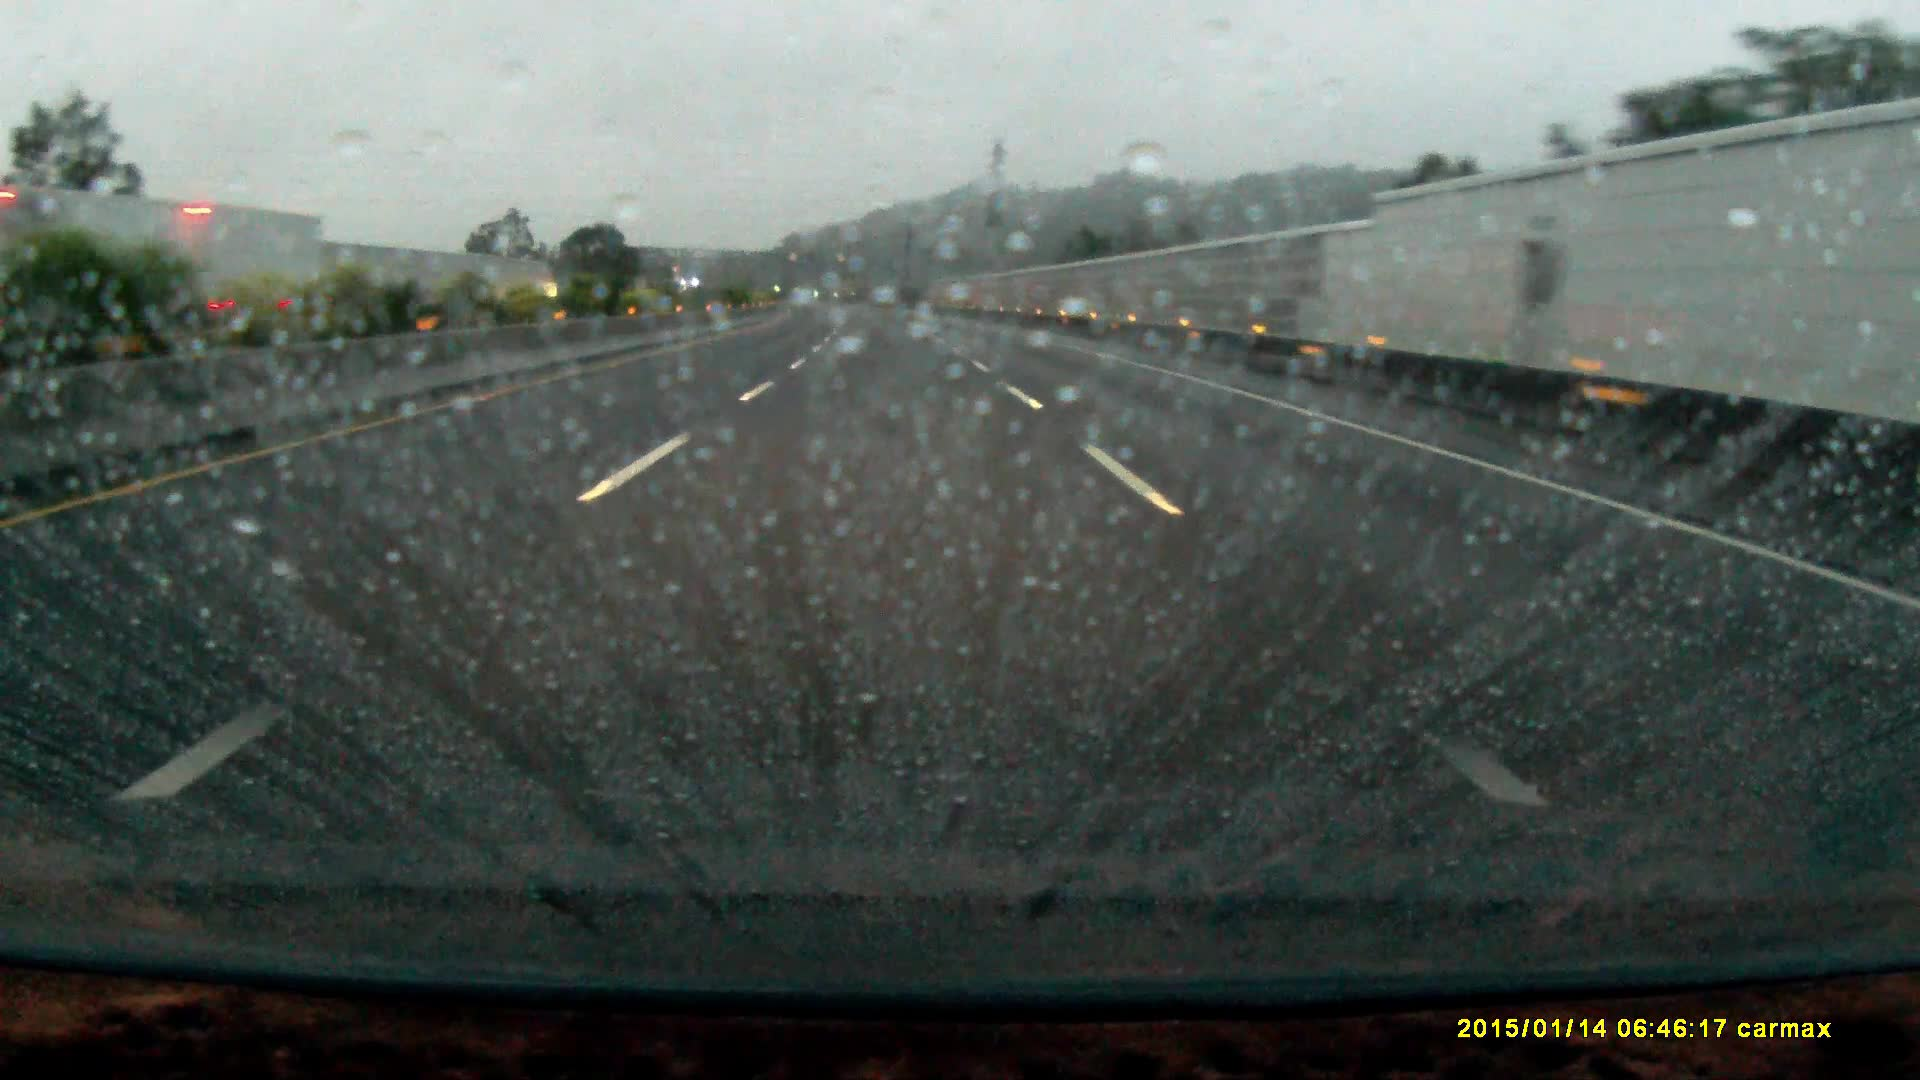vehicle: (3, 198, 303, 342)
